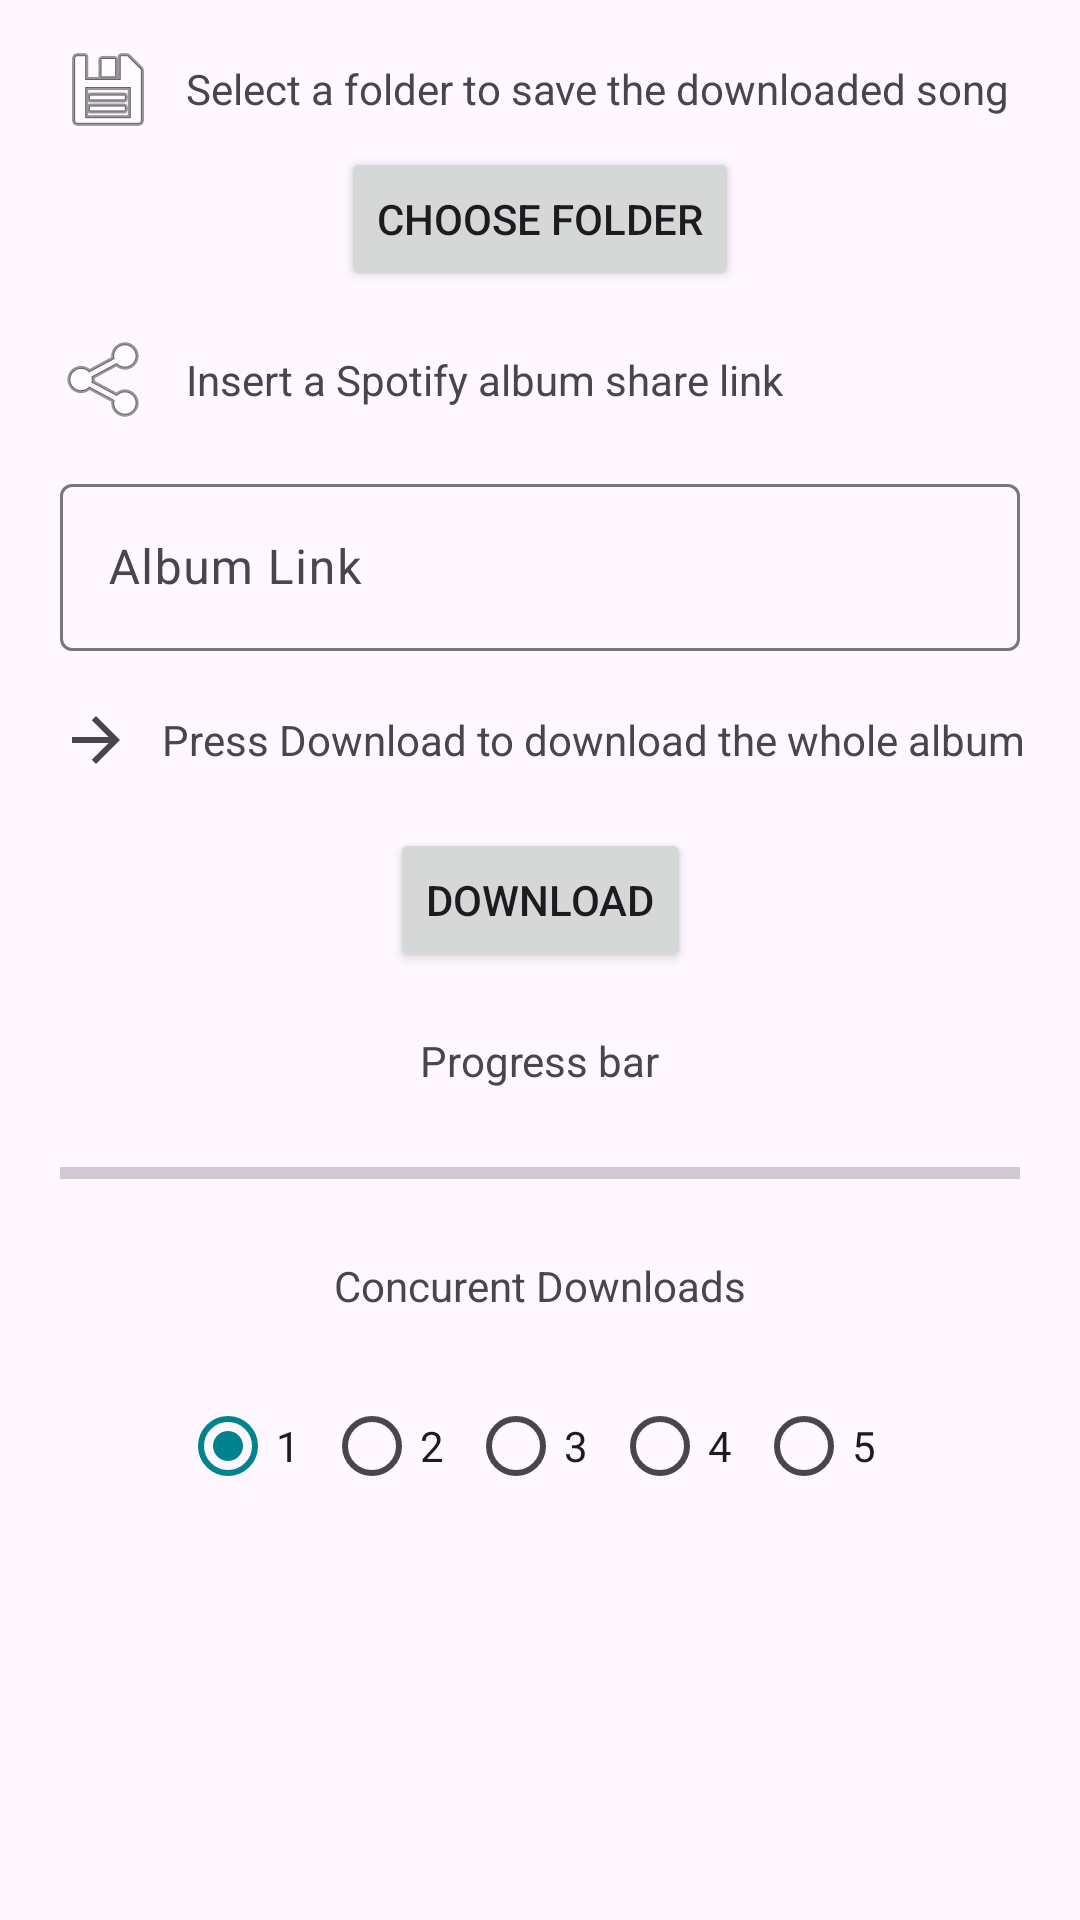

Where to tap for icons on this 1080×1920 app screen, as [x,y]:
Storage Icon: [108,89]
